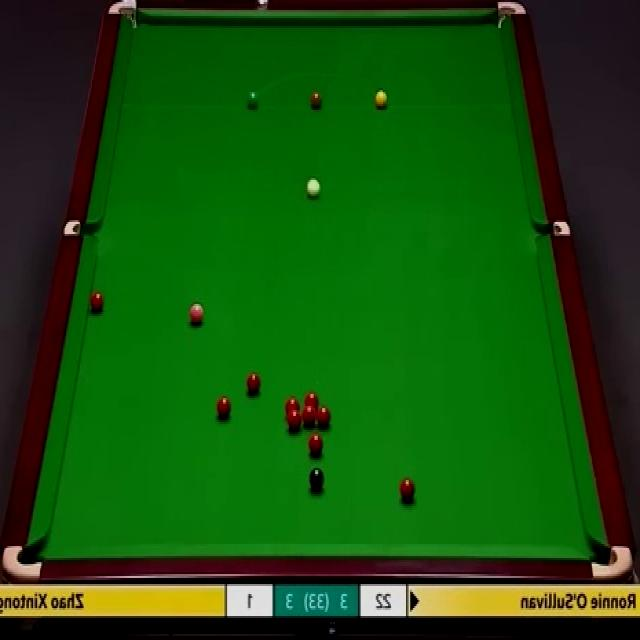pocket: (590, 543, 633, 582), (4, 543, 45, 580), (106, 0, 140, 32), (496, 0, 531, 29), (533, 217, 572, 237), (65, 218, 99, 237)
